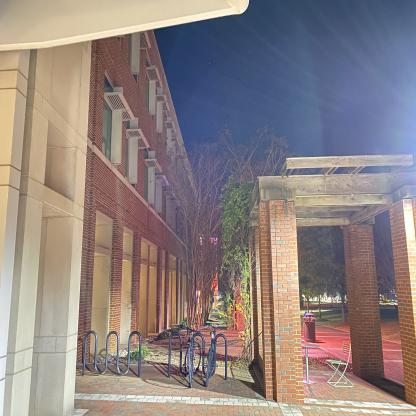eb2: (0, 0, 211, 330)
